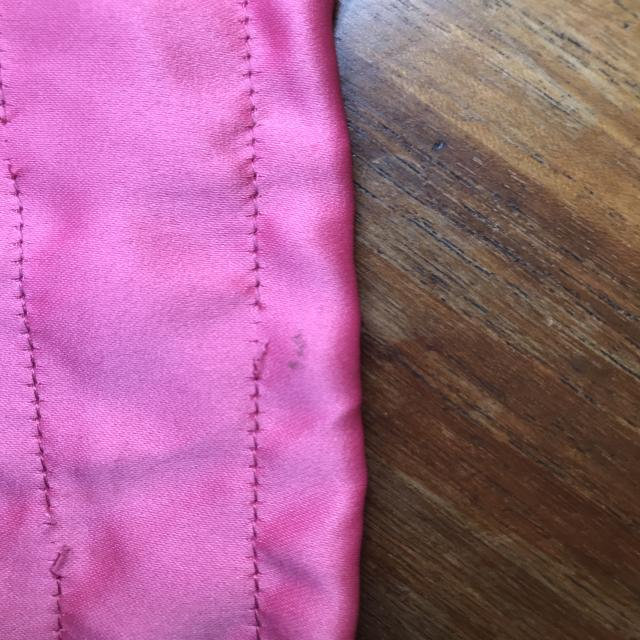broken: (232, 268, 283, 386), (31, 494, 83, 584)
